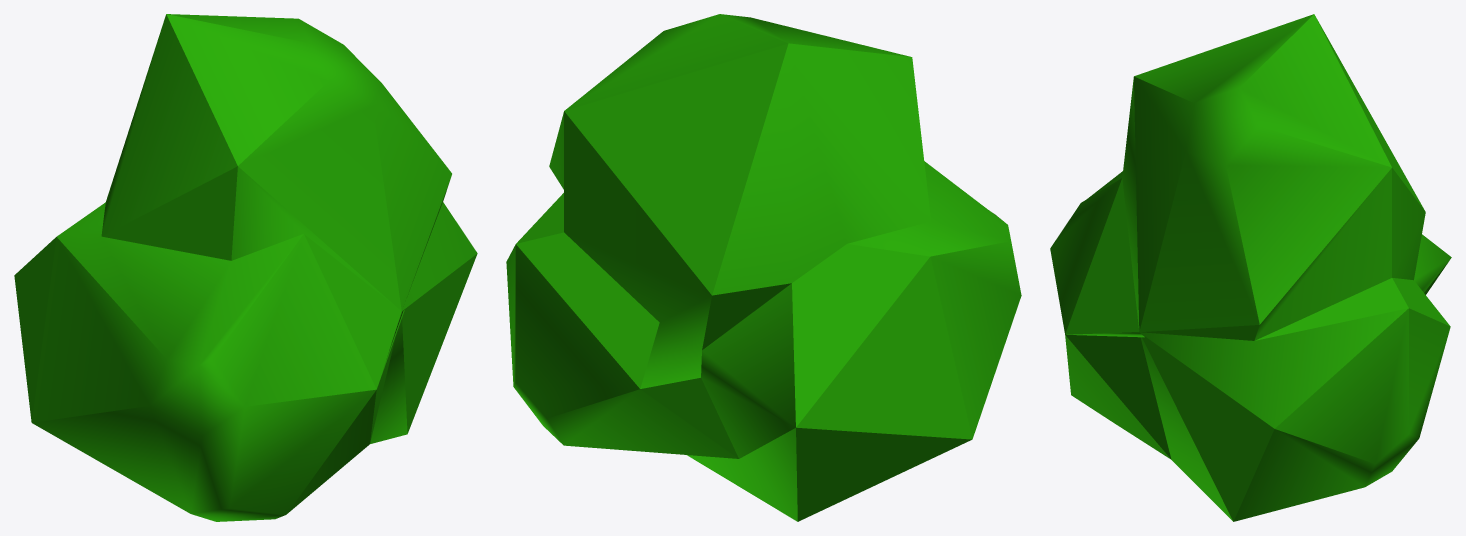
Rendered from tree_leaf_A.fbx.
The picture shows the model from 3 angles, left to right: view 1: azimuth 30°, elevation 25°; view 2: azimuth 150°, elevation 25°; view 3: azimuth 270°, elevation 25°; orthographic projection. The views are drawn at different scales.
Visible parts, largest first — view 1: tree_leaf_A; view 2: tree_leaf_A; view 3: tree_leaf_A.
Boxes of the visible parts, x1,y1,x2,y2 form: tree_leaf_A: (14, 14, 477, 521); tree_leaf_A: (506, 14, 1021, 521); tree_leaf_A: (1050, 14, 1451, 521).
Size of the model in its own units: 60.37 by 57.5 by 49.59.
